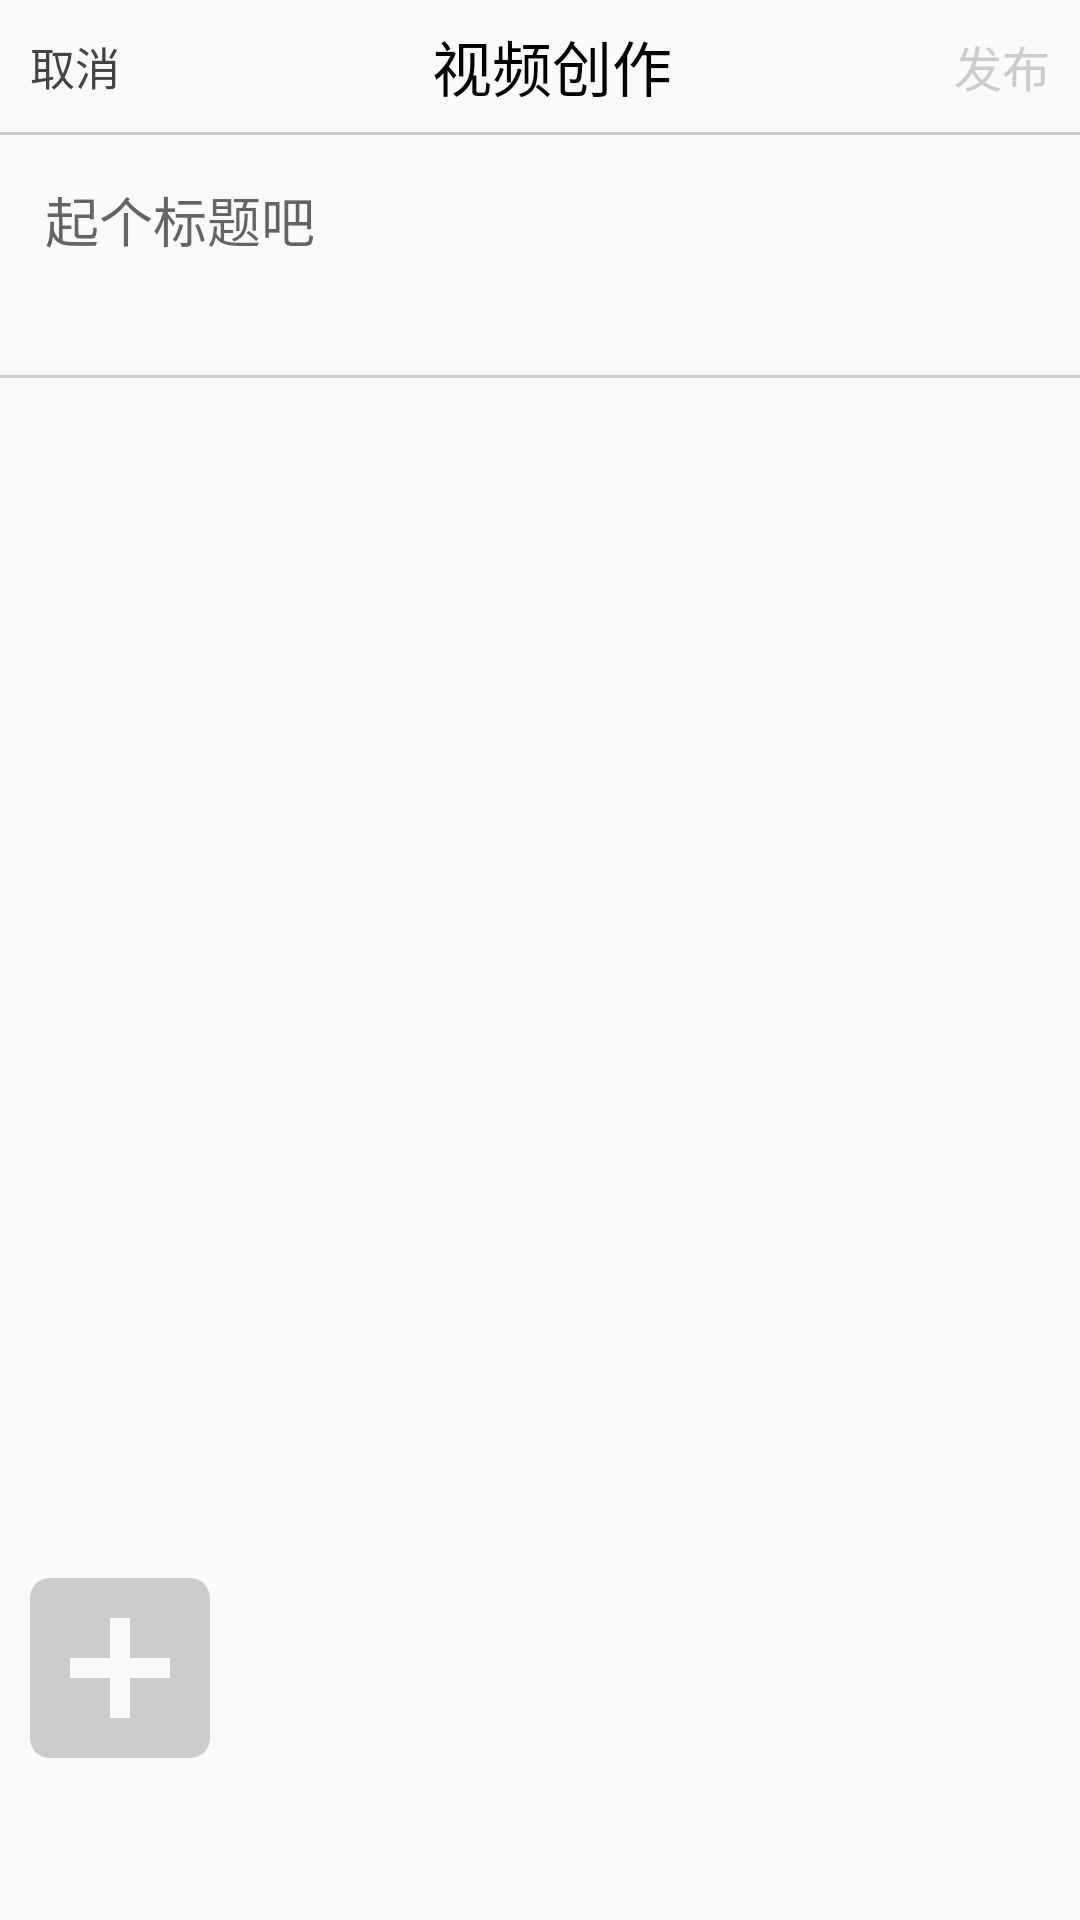

Screen size 1080x1920. Icon name, then its box in pixels as {"x1": x1, "y1": y1, "x2": x2, "y2": y2}:
add box: {"x1": 30, "y1": 1578, "x2": 210, "y2": 1758}
